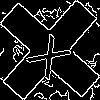X: (25, 25, 80, 81)
